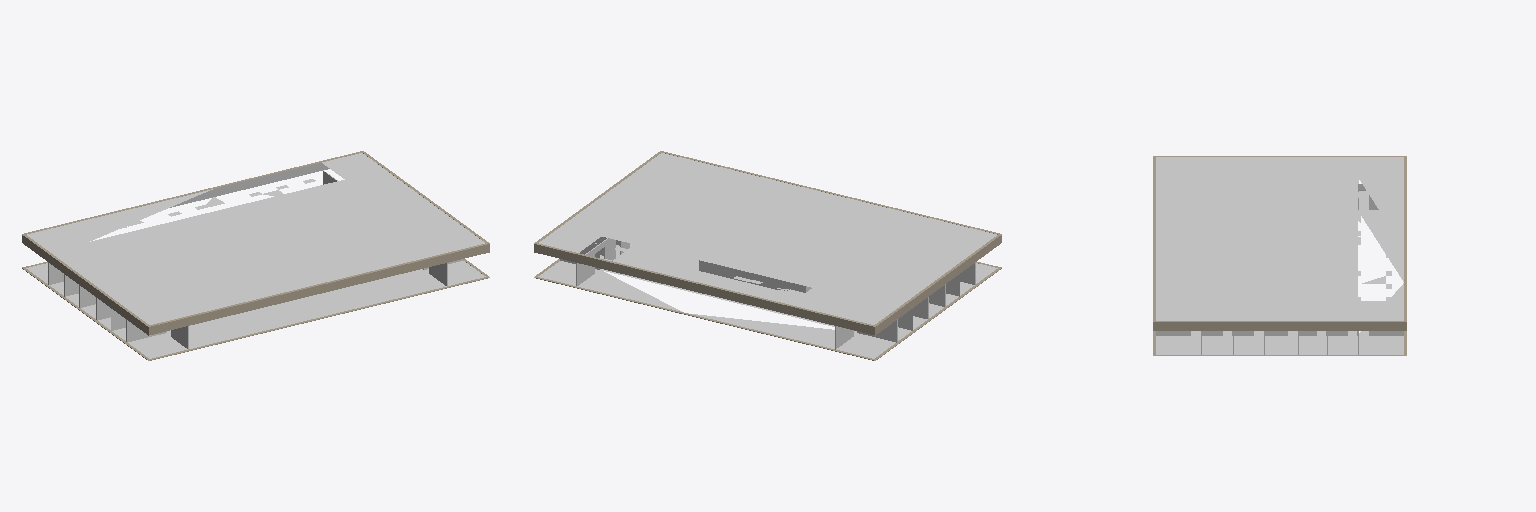
Rendered from Envelope_WWR75p_9ft.obj.
3 views of the same model, side by side, from view 1: azimuth 30°, elevation 25°; view 2: azimuth 150°, elevation 25°; view 3: azimuth 270°, elevation 25° (orthographic).
Visible parts, largest first — view 1: Envelope_WWR75p_9ft; view 2: Envelope_WWR75p_9ft; view 3: Envelope_WWR75p_9ft.
Part boxes in pixels (x1,y1,x2,y2): Envelope_WWR75p_9ft: (22, 151, 489, 360); Envelope_WWR75p_9ft: (534, 151, 1001, 360); Envelope_WWR75p_9ft: (1153, 156, 1406, 355).
Size of the model in its own units: 38.71 by 3.69 by 24.94.